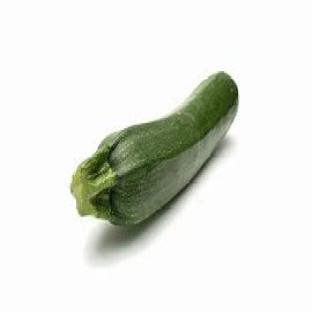Zucchini: (71, 73, 238, 225)
